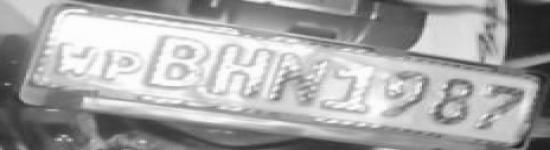1: (325, 62, 380, 114)
7: (470, 80, 528, 133)
8: (430, 75, 476, 127)
9: (379, 66, 431, 118)
B: (146, 32, 213, 90)
H: (213, 42, 273, 100)
N: (274, 50, 327, 107)
P: (102, 47, 146, 82)
W: (56, 41, 102, 77)
